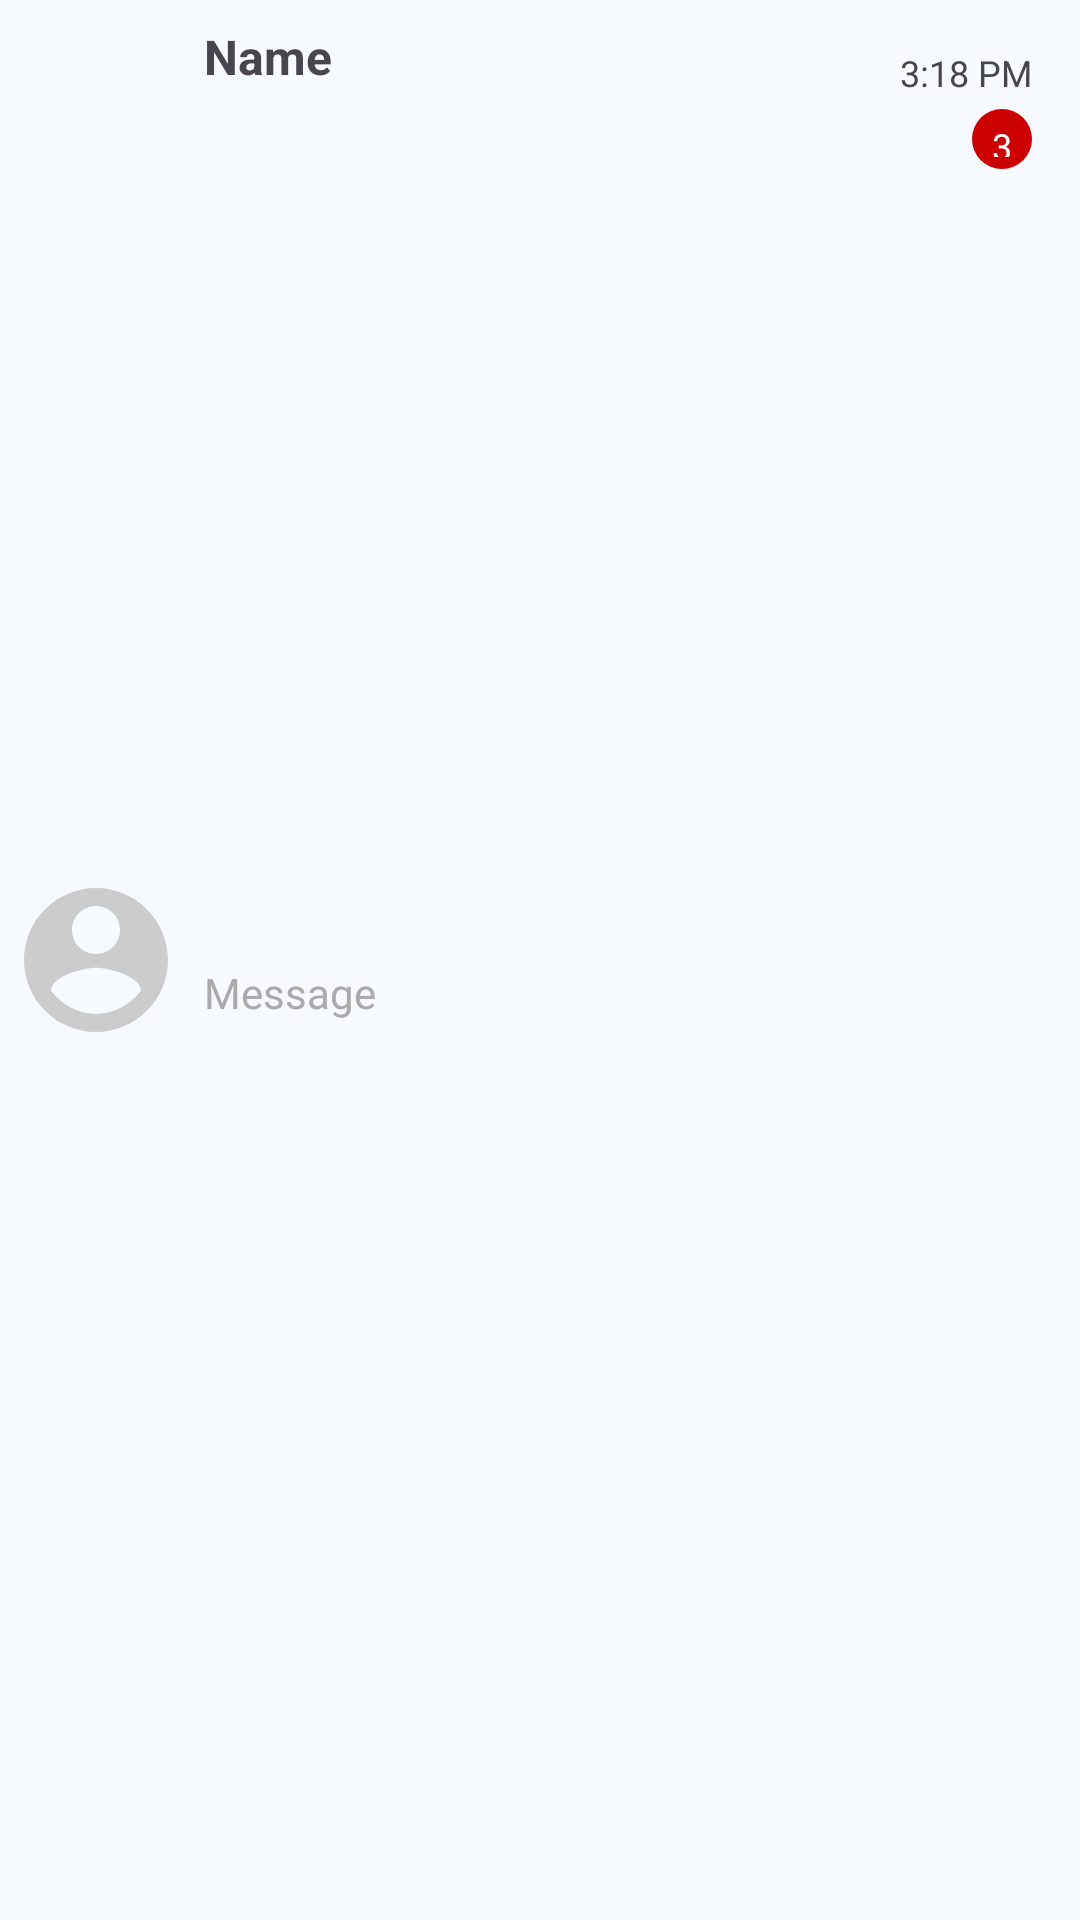

Icon click points for this 1080×1920 phone screenshot, format [x,y]:
Profile Image: [96,960]
